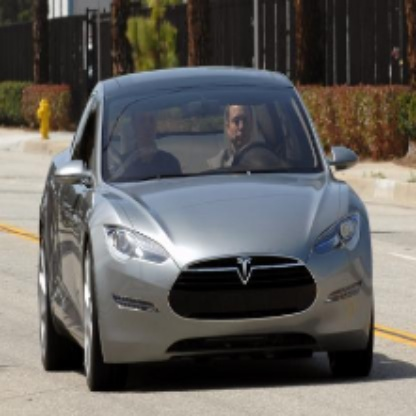Vehicle: (28, 43, 388, 410)
